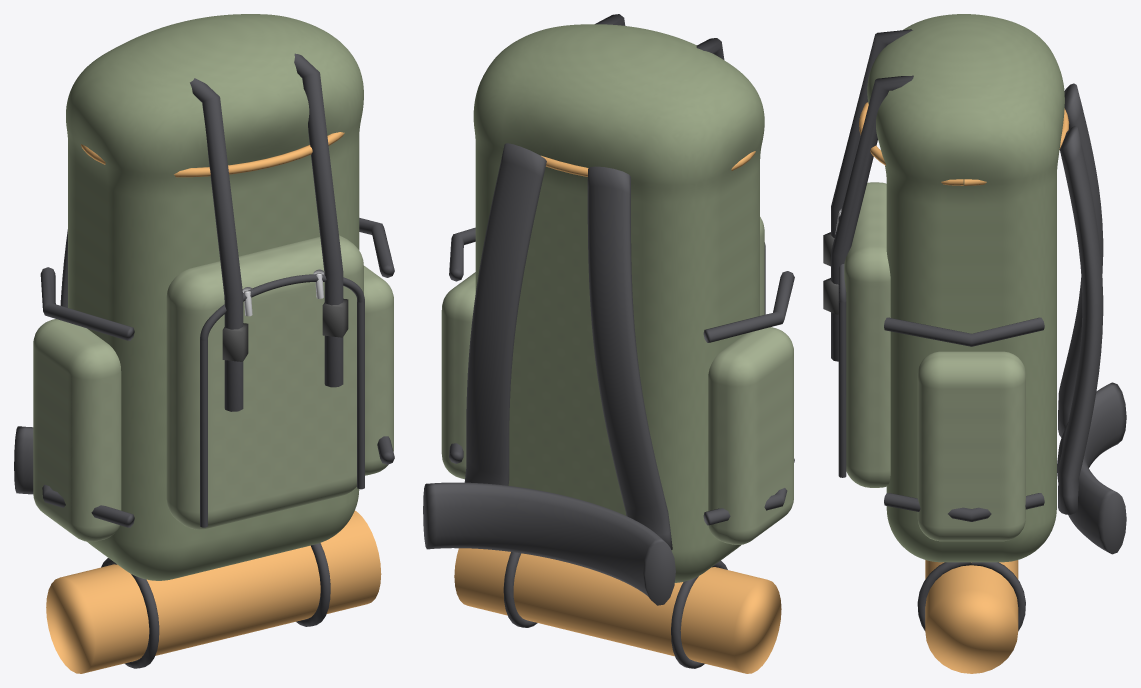
The model's file is backpack_large.glb.
3 views of the same model, side by side, from view 1: azimuth 30°, elevation 25°; view 2: azimuth 150°, elevation 25°; view 3: azimuth 270°, elevation 25° (orthographic). The views are drawn at different scales.
Visible parts, largest first — view 1: backpack_large_mesh; view 2: backpack_large_mesh; view 3: backpack_large_mesh.
Boxes of the visible parts, x1=… form: backpack_large_mesh: x1=14, y1=14, x2=394, y2=673; backpack_large_mesh: x1=423, y1=14, x2=794, y2=673; backpack_large_mesh: x1=823, y1=14, x2=1126, y2=673.
Bounding box in the file's own units: 0.478 × 0.8196 × 0.3923.
